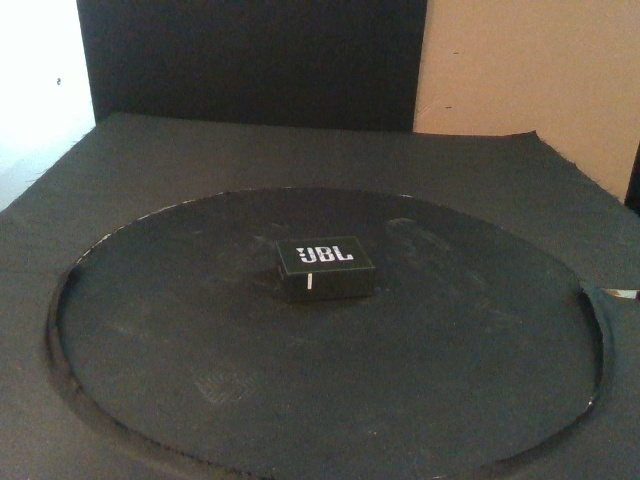speaker: (270, 236, 377, 300)
